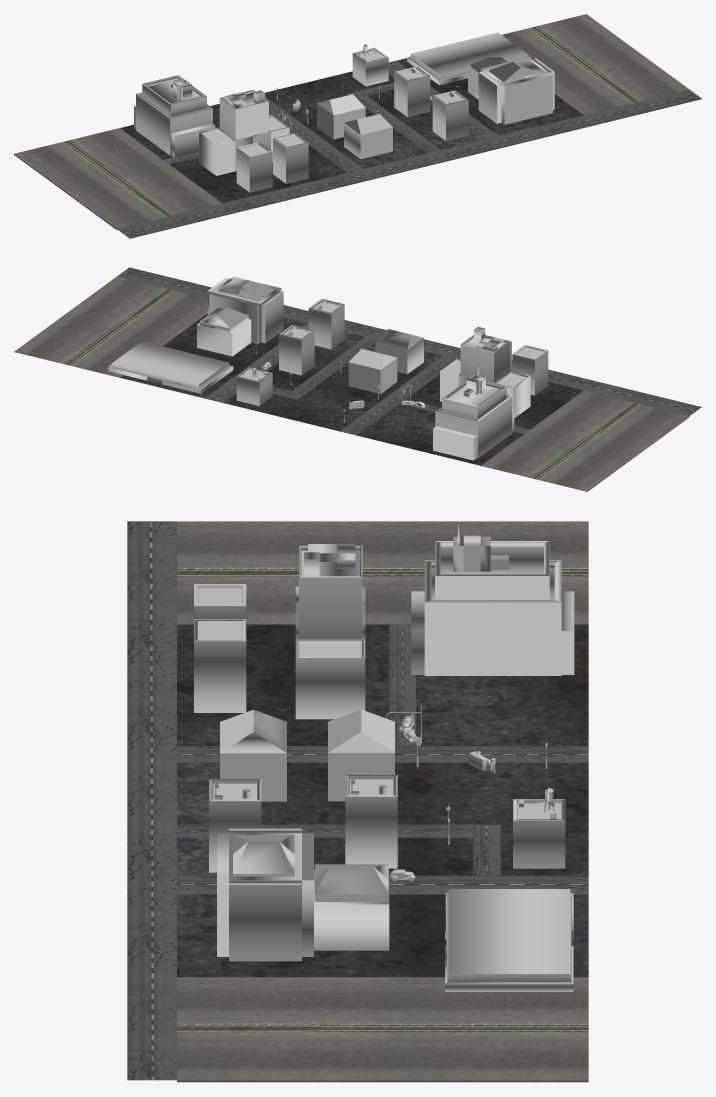
The model's file is Block_01.FBX.
3 renders of one model, top to bottom at view 1: azimuth 30°, elevation 25°; view 2: azimuth 150°, elevation 25°; view 3: azimuth 270°, elevation 25°, orthographic. The views are drawn at different scales.
Visible parts, largest first — view 1: pasted__polySurface1337; view 2: pasted__polySurface1337; view 3: pasted__polySurface1337.
Boxes of the visible parts, <box> form: pasted__polySurface1337: <box>14,14,701,238</box>; pasted__polySurface1337: <box>14,267,701,491</box>; pasted__polySurface1337: <box>127,521,588,1082</box>.
Bounding box in the file's own units: 459 × 160 × 65.54.
